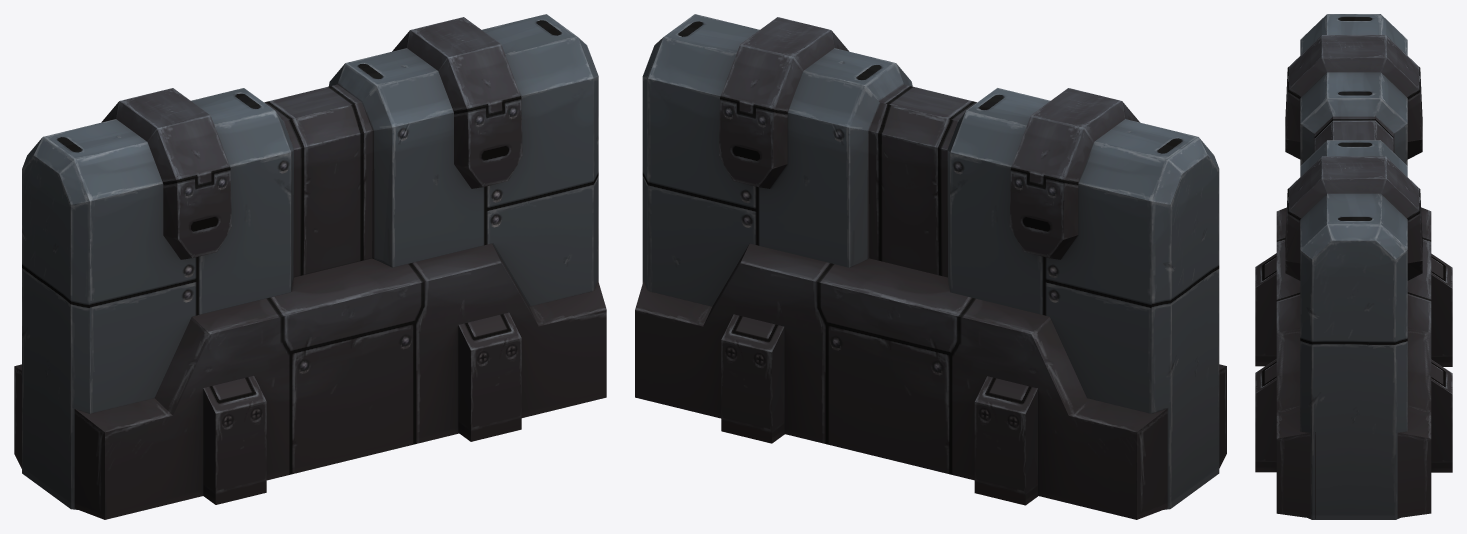
The model's file is Wall_sf_el2.fbx.
3 views of the same model, side by side, from view 1: azimuth 30°, elevation 25°; view 2: azimuth 150°, elevation 25°; view 3: azimuth 270°, elevation 25° (orthographic). The views are drawn at different scales.
Visible parts, largest first — view 1: wall_sf1; view 2: wall_sf1; view 3: wall_sf1.
Part boxes in pixels (box(x1,y1,x2,y2)): wall_sf1: box(14, 14, 606, 519); wall_sf1: box(635, 14, 1226, 519); wall_sf1: box(1255, 14, 1452, 519).
Size of the model in its own units: 2.37 by 1.52 by 0.8964.
1 material, 1 textured.
